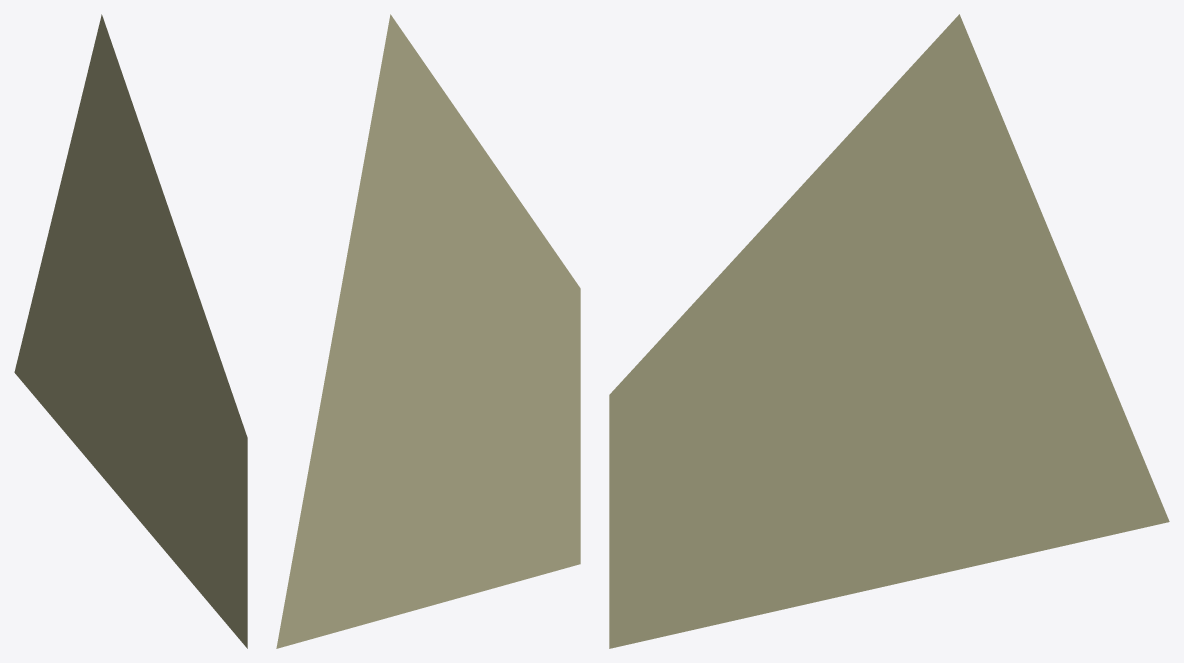
File: tetrahedron.glb
3 views of the same model, side by side, from view 1: azimuth 30°, elevation 25°; view 2: azimuth 150°, elevation 25°; view 3: azimuth 270°, elevation 25° (orthographic). The views are drawn at different scales.
Parts seen in each view (by area): view 1: geometry_0; view 2: geometry_0; view 3: geometry_0.
Boxes of the visible parts, x1,y1,x2,y2 form: geometry_0: (14,14,247,648); geometry_0: (276,14,580,648); geometry_0: (609,14,1169,648).
Size of the model in its own units: 0 by 50 by 40.
